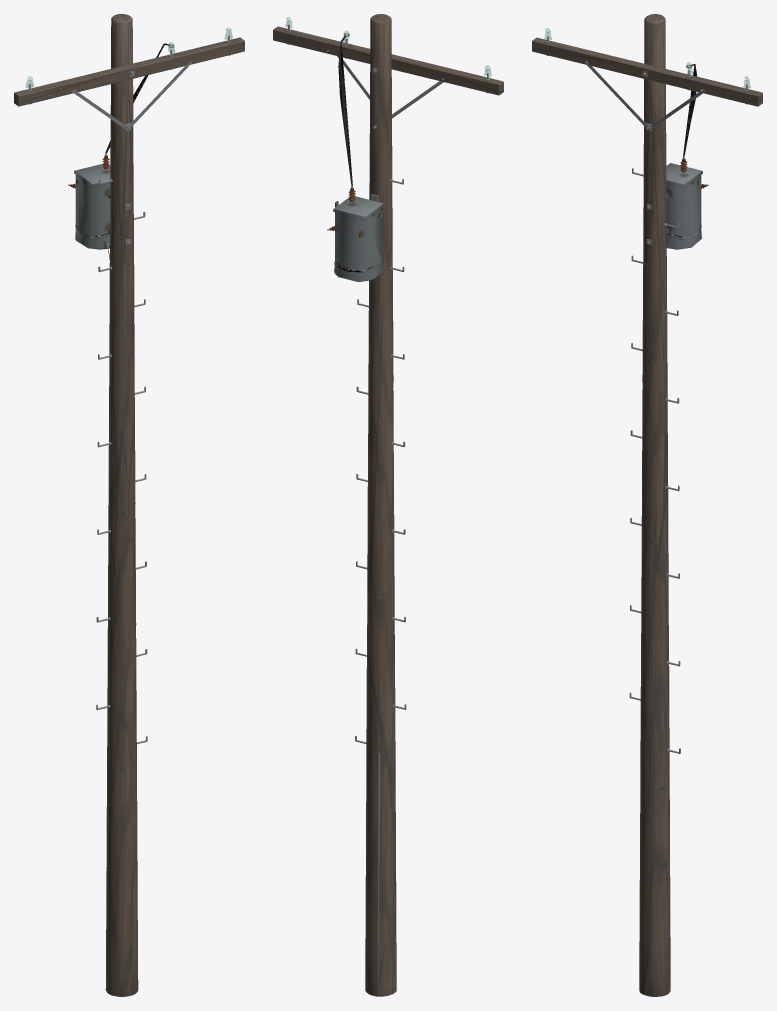
Rendered from g3-utility-pole-lite.glb.
The picture shows the model from 3 angles, left to right: view 1: azimuth 30°, elevation 25°; view 2: azimuth 150°, elevation 25°; view 3: azimuth 330°, elevation 25°; orthographic projection.
Visible parts, largest first — view 1: utility-pole_shaft, utility-pole_body; view 2: utility-pole_shaft, utility-pole_body; view 3: utility-pole_shaft, utility-pole_body.
Part boxes in pixels (box(x1,y1,x2,y2)): utility-pole_shaft: box(105, 14, 138, 996); utility-pole_body: box(14, 35, 244, 744); utility-pole_shaft: box(365, 14, 396, 996); utility-pole_body: box(273, 24, 503, 996); utility-pole_shaft: box(639, 14, 670, 996); utility-pole_body: box(532, 35, 762, 753).
Size of the model in its own units: 2.44 by 10 by 0.9043.
Materials: 3 (2 with a texture image).
